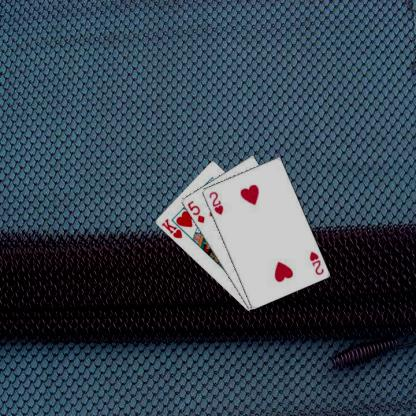2H: (206, 189, 224, 216), (307, 249, 325, 276)
5D: (185, 198, 206, 224)
KH: (159, 216, 183, 240)
